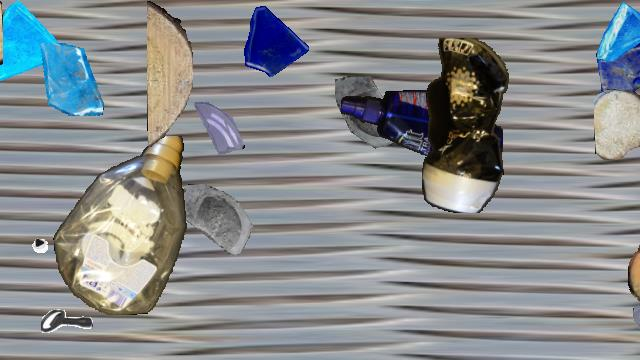glass: (333, 76, 419, 162), (181, 182, 265, 266), (235, 1, 311, 77), (0, 1, 62, 91), (34, 43, 106, 115), (189, 101, 247, 159), (594, 42, 640, 108), (595, 1, 640, 67), (633, 273, 640, 359)
metal: (0, 199, 53, 257), (41, 297, 93, 349)
plastic: (53, 136, 189, 314), (422, 38, 510, 212), (341, 90, 503, 172)
wood: (147, 1, 193, 147), (594, 89, 640, 159), (628, 232, 640, 310), (0, 1, 3, 67)
